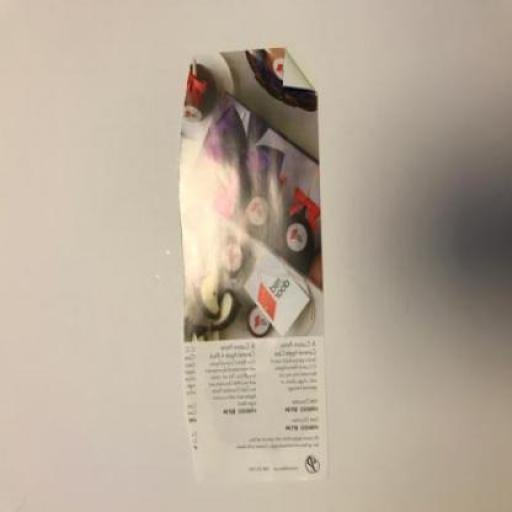paper: (178, 44, 328, 485)
